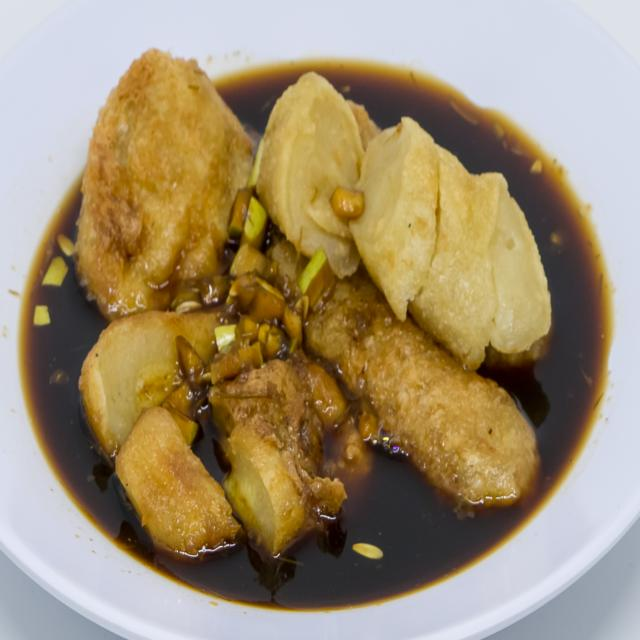Pempek-Palembang: (66, 33, 561, 578)
